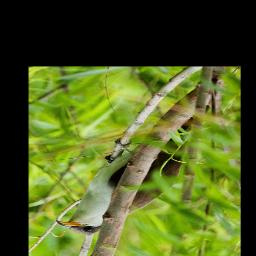Cuckoo: (51, 104, 221, 236)
